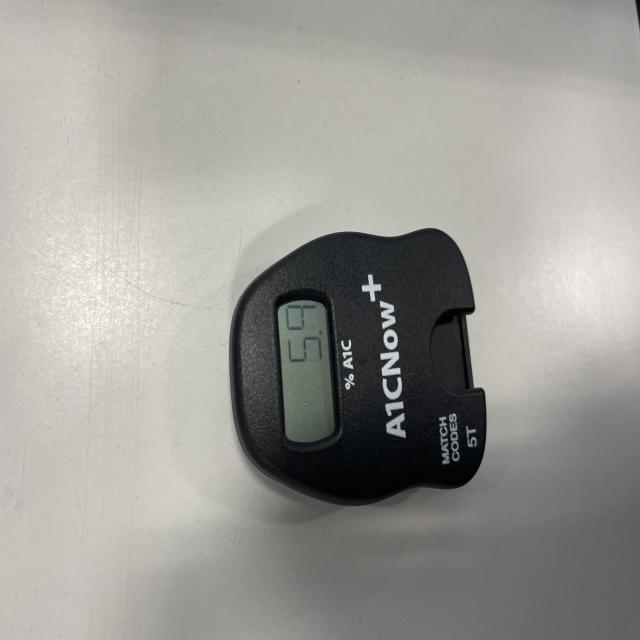hba1c: (226, 229, 488, 508)
